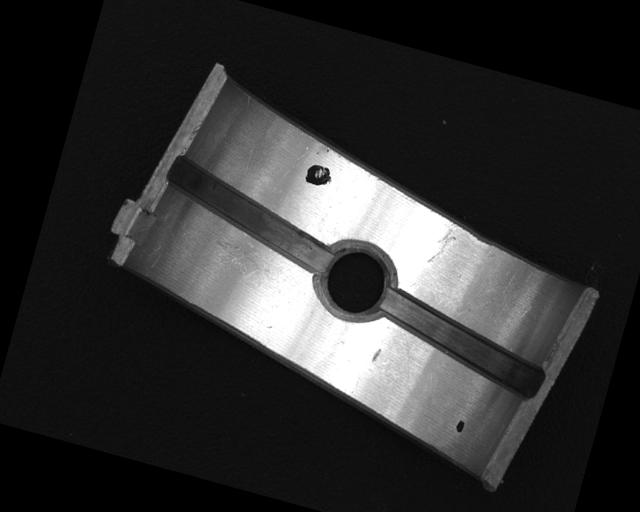blot: (302, 162, 335, 190), (453, 418, 467, 435)
bruise: (371, 346, 382, 363)
gap: (154, 156, 344, 277), (369, 289, 554, 400)
hole: (307, 235, 403, 328)
nick: (425, 219, 460, 269)
scratch: (201, 230, 279, 288)
